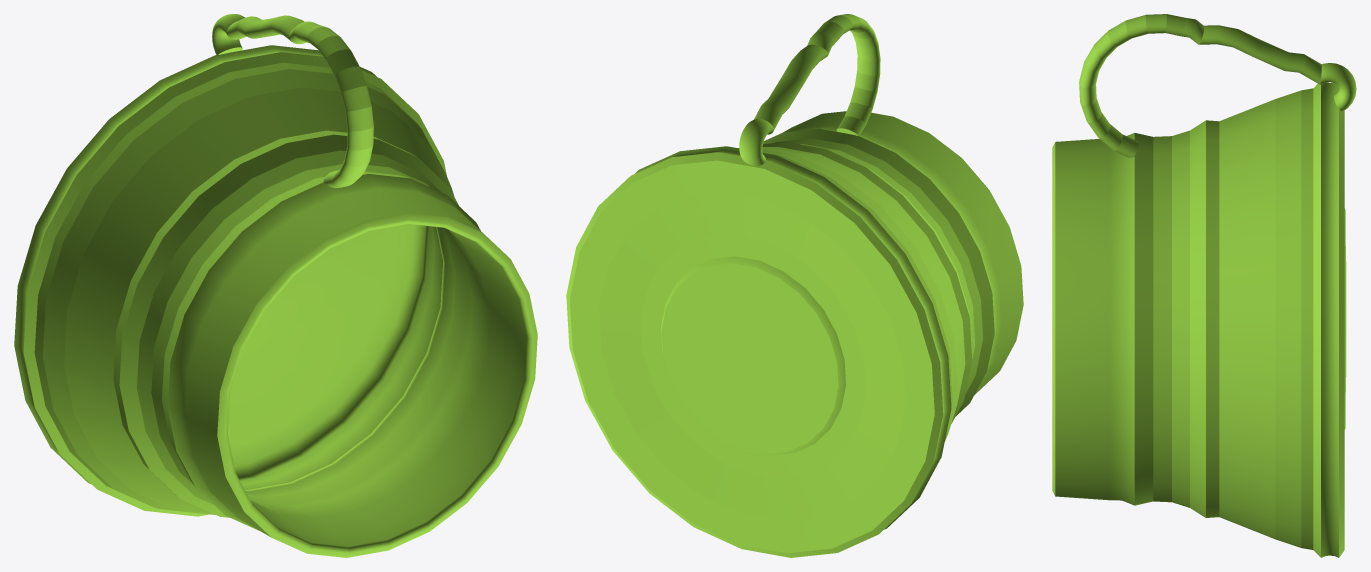
Rendered from model_align.obj.
The picture shows the model from 3 angles, left to right: view 1: azimuth 30°, elevation 25°; view 2: azimuth 150°, elevation 25°; view 3: azimuth 270°, elevation 25°; orthographic projection. The views are drawn at different scales.
Parts seen in each view (by area): view 1: mesh3_mesh3-geometry, mesh1_mesh1-geometry; view 2: mesh3_mesh3-geometry, mesh2_mesh2-geometry, mesh1_mesh1-geometry; view 3: mesh3_mesh3-geometry, mesh1_mesh1-geometry.
Part boxes in pixels (box(x1,y1,x2,y2)): mesh3_mesh3-geometry: box(14, 45, 537, 557); mesh1_mesh1-geometry: box(212, 14, 373, 187); mesh3_mesh3-geometry: box(566, 111, 1023, 557); mesh2_mesh2-geometry: box(661, 263, 838, 453); mesh1_mesh1-geometry: box(739, 14, 880, 166); mesh3_mesh3-geometry: box(1052, 82, 1346, 557); mesh1_mesh1-geometry: box(1079, 14, 1356, 157).
Size of the model in its own units: 0.1054 by 0.1263 by 0.0669.
